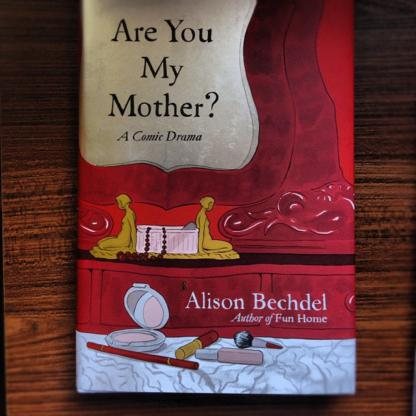book: (76, 0, 386, 416)
